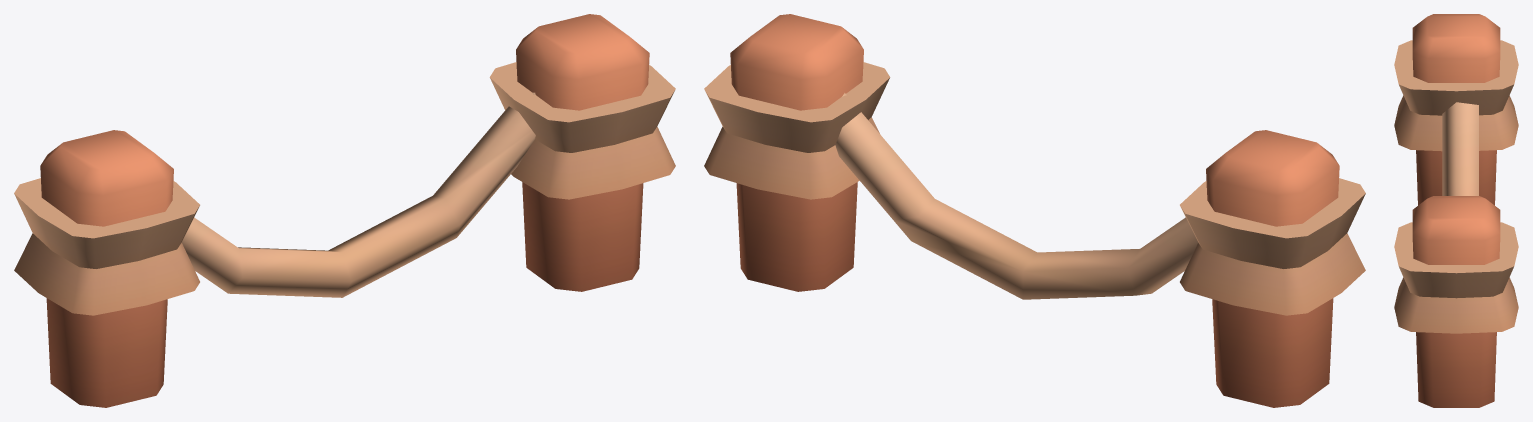
The model's file is fence.glb.
The picture shows the model from 3 angles, left to right: view 1: azimuth 30°, elevation 25°; view 2: azimuth 150°, elevation 25°; view 3: azimuth 270°, elevation 25°; orthographic projection. The views are drawn at different scales.
Parts seen in each view (by area): view 1: fence; view 2: fence; view 3: fence.
Part boxes in pixels (bbox=[...]): fence: bbox=[14, 14, 675, 407]; fence: bbox=[704, 14, 1365, 407]; fence: bbox=[1394, 14, 1518, 407].
Bounding box in the file's own units: 1.1 × 0.4 × 0.2458.
Materials: 1 (1 with a texture image).
